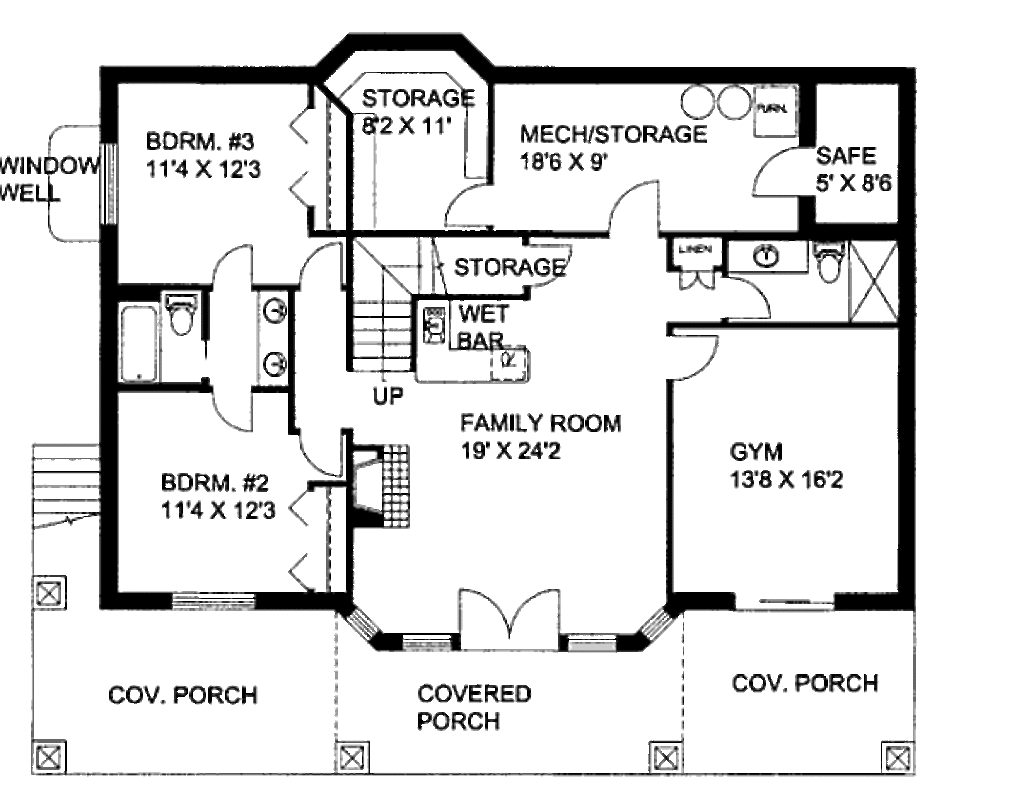door: (455, 585, 566, 651), (435, 175, 509, 236), (602, 173, 671, 236), (663, 329, 731, 387), (752, 146, 825, 196), (518, 234, 583, 289), (206, 380, 264, 436), (297, 428, 354, 480), (201, 246, 259, 287), (728, 276, 778, 323), (669, 268, 720, 292)
large_sink: (163, 284, 210, 334), (818, 233, 849, 287)
sink: (423, 300, 461, 354)
small_sink: (253, 285, 301, 385), (738, 239, 793, 270)
stairs: (358, 224, 469, 381), (30, 436, 99, 580)
tub: (115, 295, 164, 385)
window: (92, 137, 133, 227), (172, 584, 267, 615), (633, 595, 686, 648), (333, 599, 383, 643)
